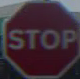Stop: (4, 3, 77, 66)
